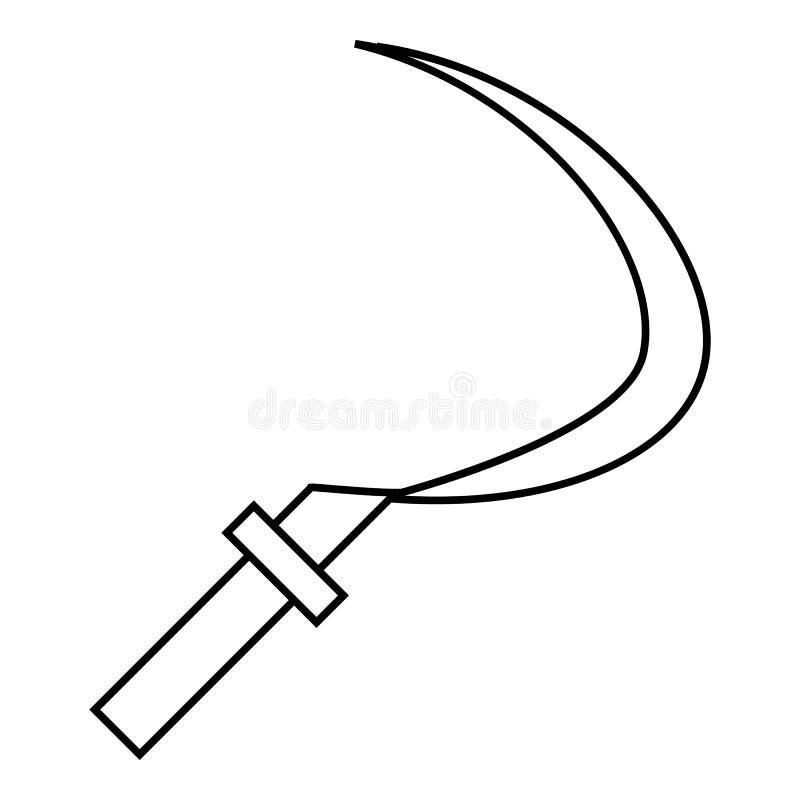foice: (91, 42, 710, 758)
